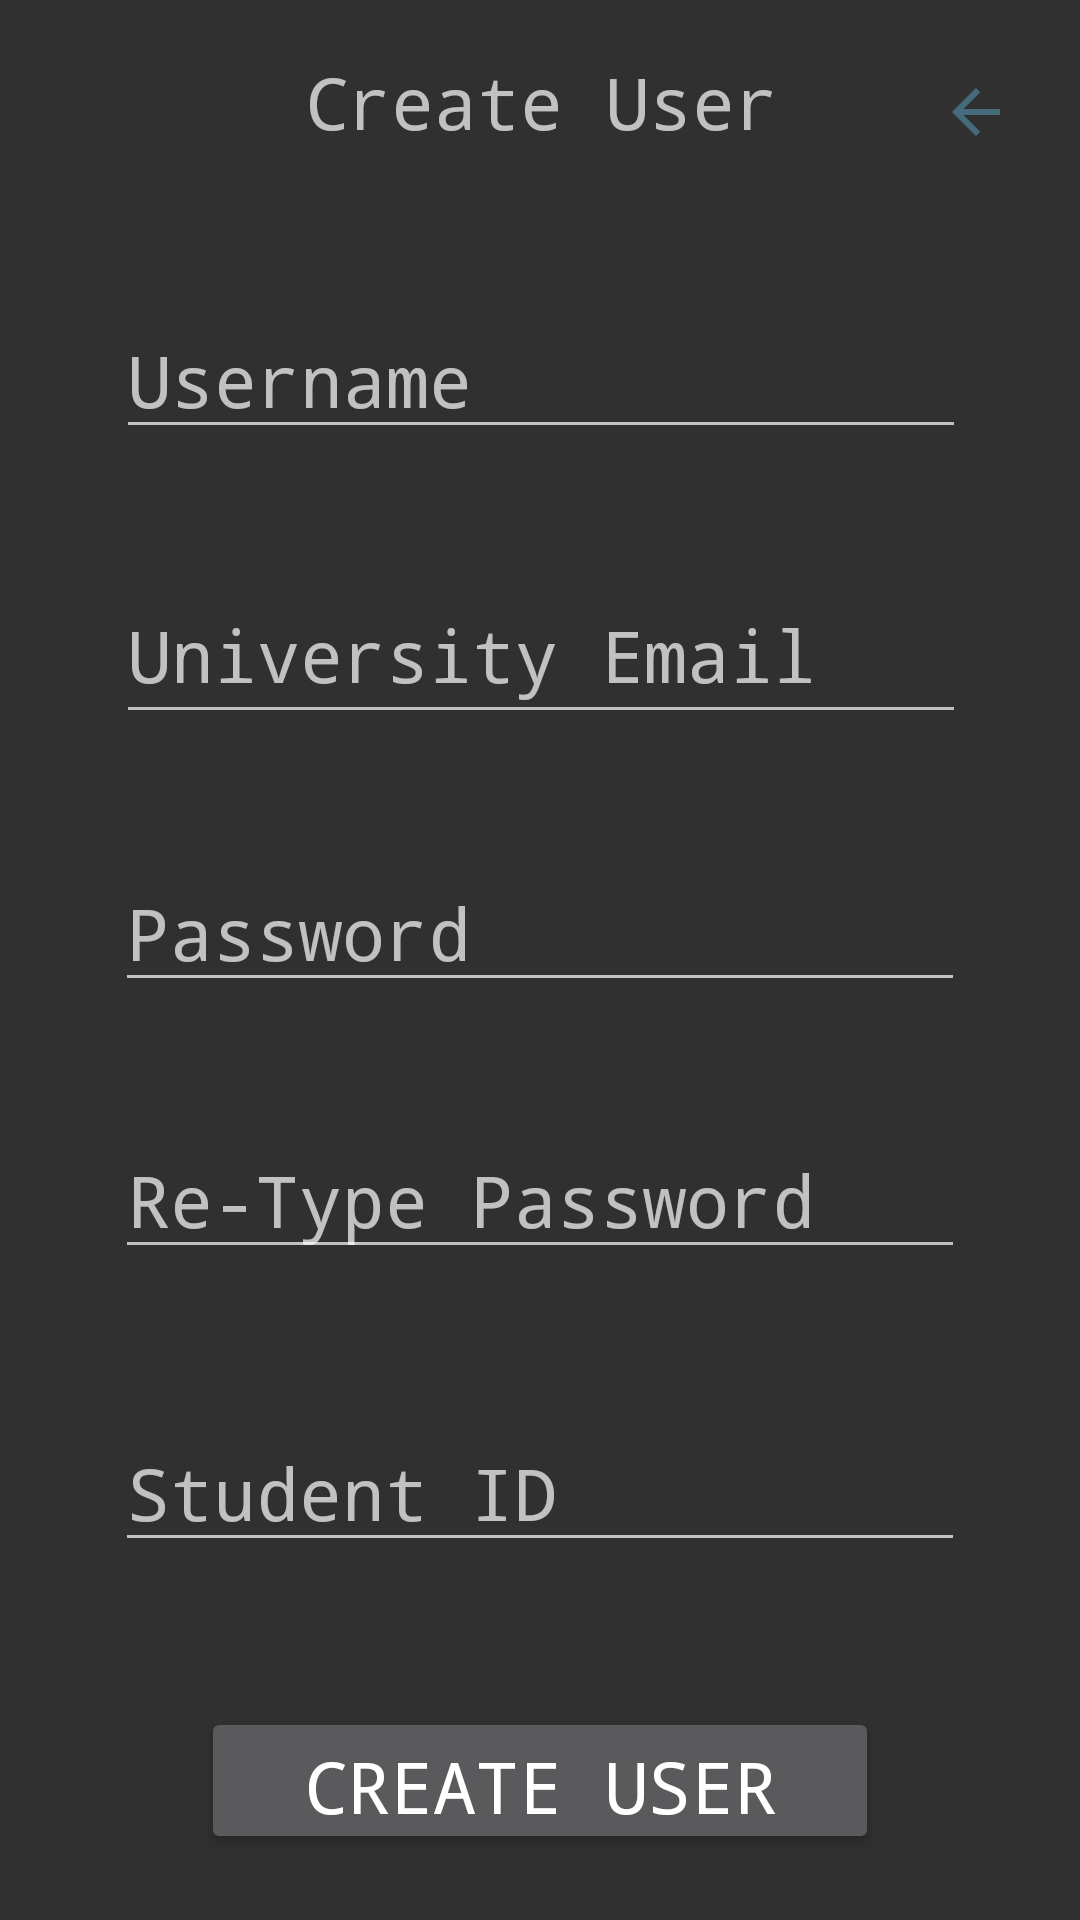

Icons on this 1080w x 1920h Android screen, each with its box as (x1, y1, x2, y2):
arrow back: (952, 88, 1000, 136)
